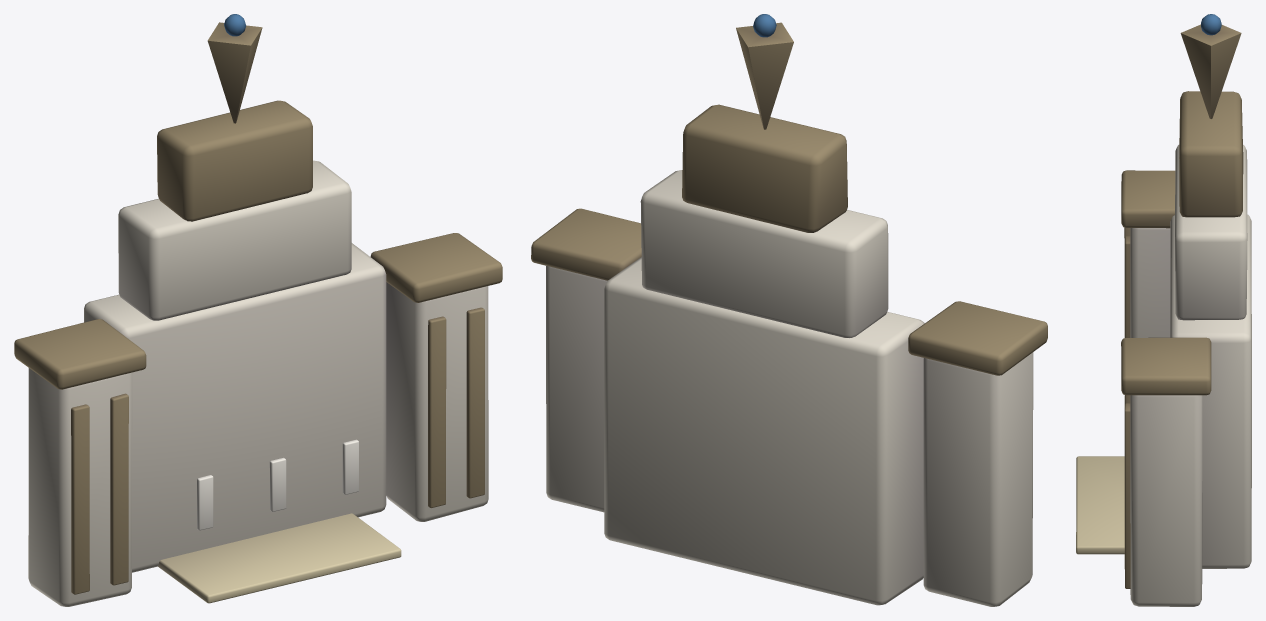
3 renders of one model, left to right at view 1: azimuth 30°, elevation 25°; view 2: azimuth 150°, elevation 25°; view 3: azimuth 270°, elevation 25°, orthographic. The views are drawn at different scales.
Parts seen in each view (by area): view 1: gate_a16ecc8b; view 2: gate_a16ecc8b; view 3: gate_a16ecc8b.
Part boxes in pixels (box(x1,y1,x2,y2)): gate_a16ecc8b: box(14, 14, 502, 606); gate_a16ecc8b: box(531, 14, 1047, 606); gate_a16ecc8b: box(1076, 14, 1251, 606).
Bounding box in the file's own units: 5.5 × 6.08 × 1.96.
